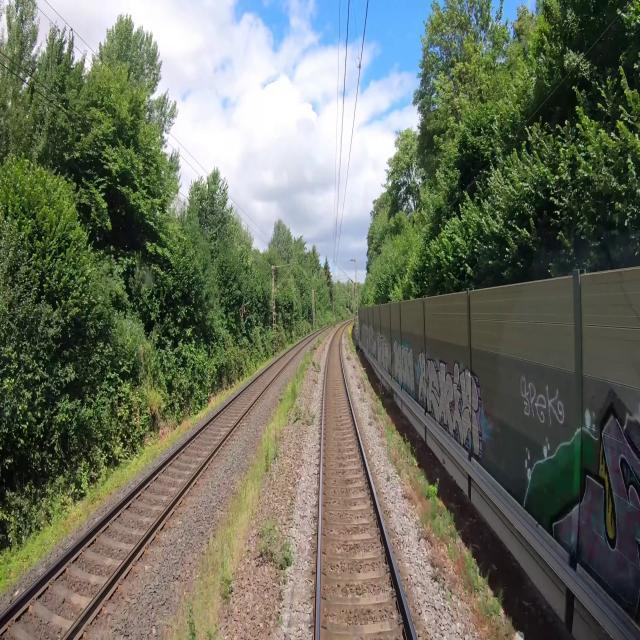Plant: (260, 348, 312, 473), (258, 513, 293, 570), (232, 459, 264, 520), (217, 549, 236, 602), (186, 600, 198, 639), (293, 406, 314, 426), (204, 623, 219, 639), (314, 336, 323, 349), (312, 361, 321, 373), (243, 544, 248, 554)
